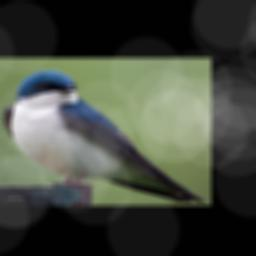Swallow: (2, 69, 206, 205)
